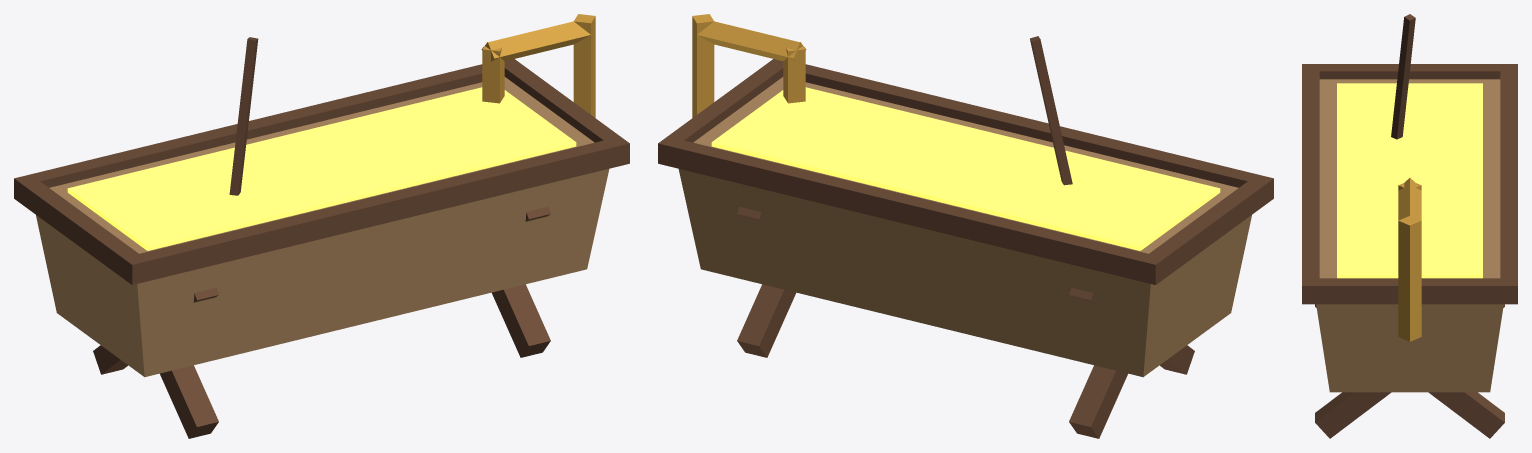
The model's file is Prop_Trough_Slime.fbx.
The picture shows the model from 3 angles, left to right: view 1: azimuth 30°, elevation 25°; view 2: azimuth 150°, elevation 25°; view 3: azimuth 270°, elevation 25°; orthographic projection. The views are drawn at different scales.
Visible parts, largest first — view 1: Prop_Trough_Slime; view 2: Prop_Trough_Slime; view 3: Prop_Trough_Slime.
Boxes of the visible parts, x1,y1,x2,y2 form: Prop_Trough_Slime: (14, 14, 629, 438); Prop_Trough_Slime: (658, 14, 1273, 438); Prop_Trough_Slime: (1302, 14, 1517, 438).
Size of the model in its own units: 1.89 by 1.18 by 0.74.
